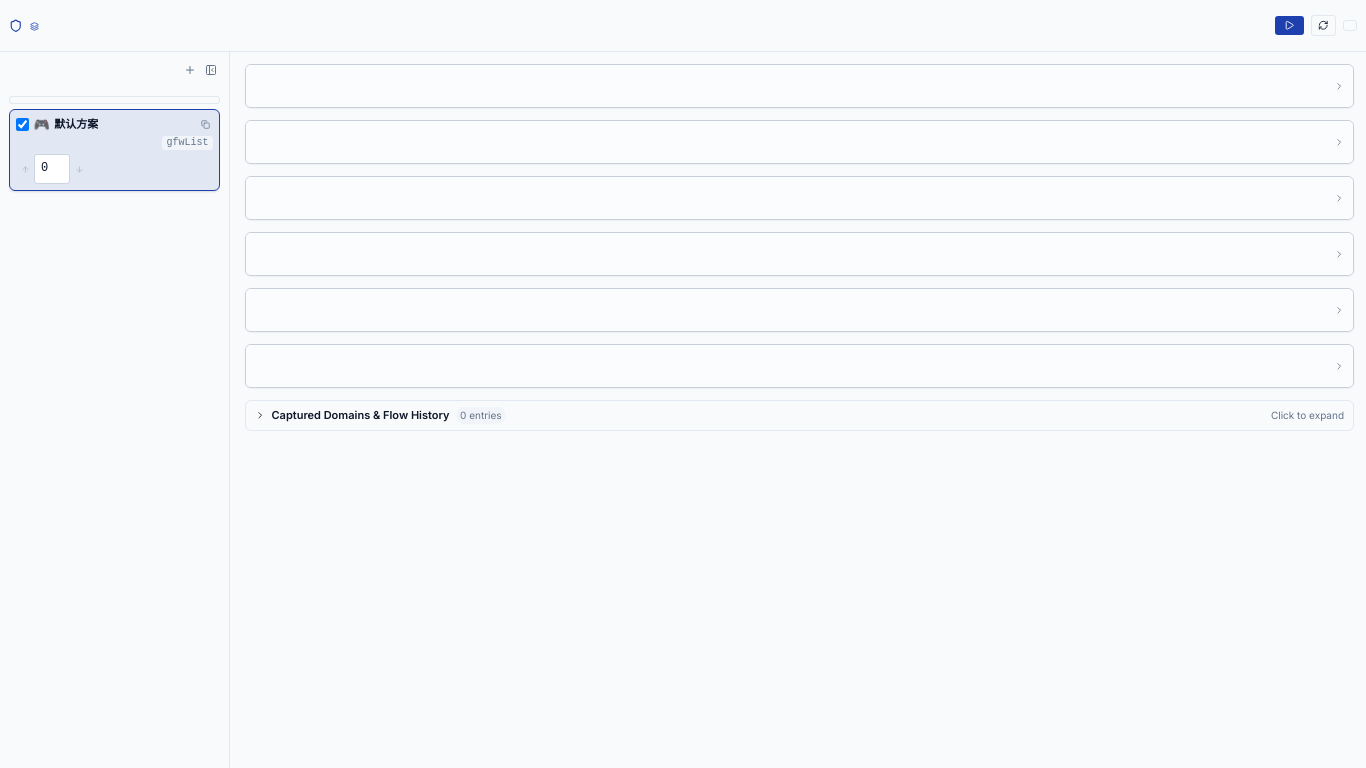
Test: SocksCapPanel Multi-Profile UI › renders detail sections collapsed by default and expands them on demand
Click the button with test id "sockscap-section-upstream-toggle" at (1339, 198), box [246,177,1353,219]
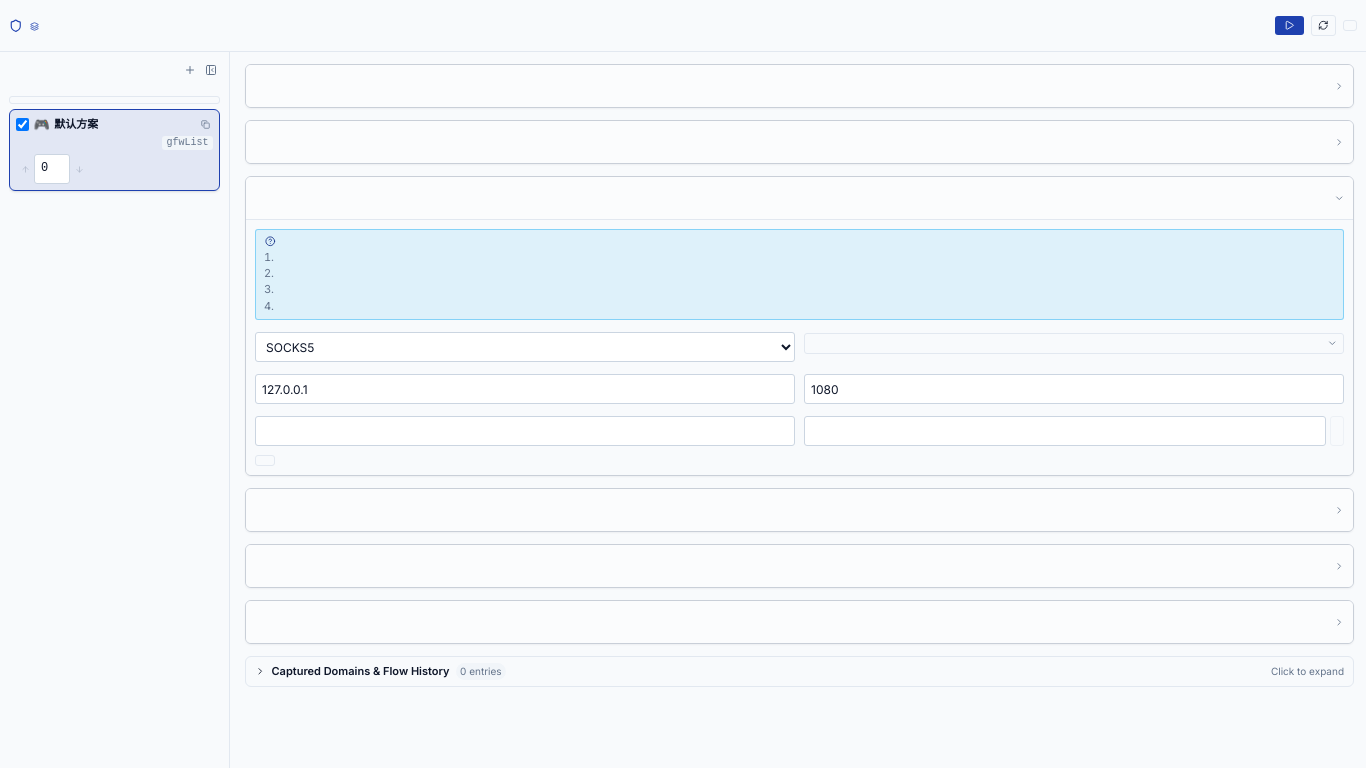
Check: the dropdown with test id "sockscap-upstream-kind" is shown, box [255,332,795,362]
